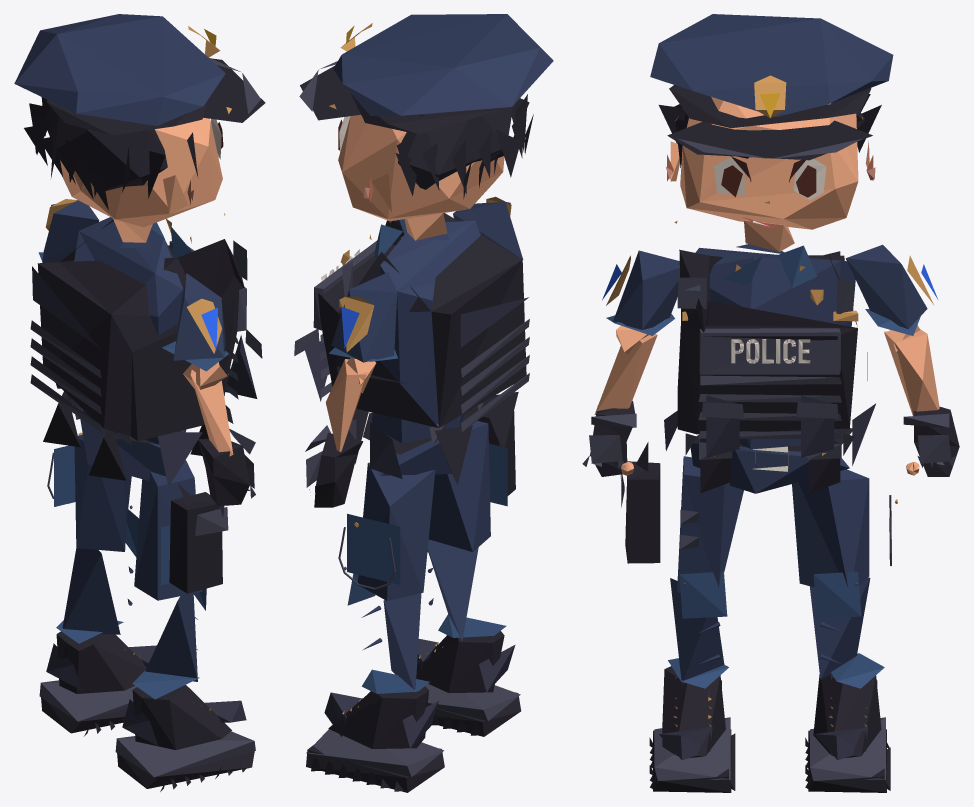
Rendered from npc.police-officer.lod2.glb.
3 renders of one model, left to right at view 1: azimuth 30°, elevation 25°; view 2: azimuth 150°, elevation 25°; view 3: azimuth 270°, elevation 25°, orthographic. The views are drawn at different scales.
Parts seen in each view (by area): view 1: head, torso, footR, legR, footL, hip, legL, shinL, shinR, armR, handR, foreArmR (+1 smaller); view 2: head, torso, footL, legL, footR, legR, hip, armL, shinL, shinR, handL, foreArmL (+1 smaller); view 3: head, torso, legR, footR, footL, legL, hip, shinL, shinR, armL, armR, foreArmL (+3 smaller).
Part boxes in pixels (<box>): head: <box>14,14,265,242</box>; torso: <box>30,213,262,444</box>; footR: <box>115,685,255,791</box>; legR: <box>134,460,228,600</box>; footL: <box>39,631,156,736</box>; hip: <box>43,391,233,486</box>; legL: <box>47,432,131,551</box>; shinL: <box>56,505,139,643</box>; shinR: <box>132,588,206,699</box>; armR: <box>162,273,228,371</box>; handR: <box>198,429,255,506</box>; foreArmR: <box>183,362,233,456</box>; head: <box>299,14,553,240</box>; torso: <box>294,213,529,443</box>; footL: <box>306,686,444,792</box>; legL: <box>338,462,435,600</box>; footR: <box>416,631,521,736</box>; legR: <box>428,406,515,551</box>; hip: <box>346,391,518,484</box>; armL: <box>329,272,397,362</box>; shinL: <box>344,566,429,693</box>; shinR: <box>427,539,506,641</box>; handL: <box>305,425,363,507</box>; foreArmL: <box>325,358,376,451</box>; head: <box>650,14,893,251</box>; torso: <box>674,221,867,457</box>; legR: <box>620,442,743,592</box>; footR: <box>649,666,735,792</box>; footL: <box>805,674,890,792</box>; legL: <box>792,469,897,586</box>; hip: <box>664,403,875,493</box>; shinL: <box>809,571,884,688</box>; shinR: <box>668,571,728,688</box>; armL: <box>846,244,937,335</box>; armR: <box>602,250,679,335</box>; foreArmL: <box>884,325,939,415</box>.
Bounding box in the file's own units: 0.559 × 1.79 × 0.85.
